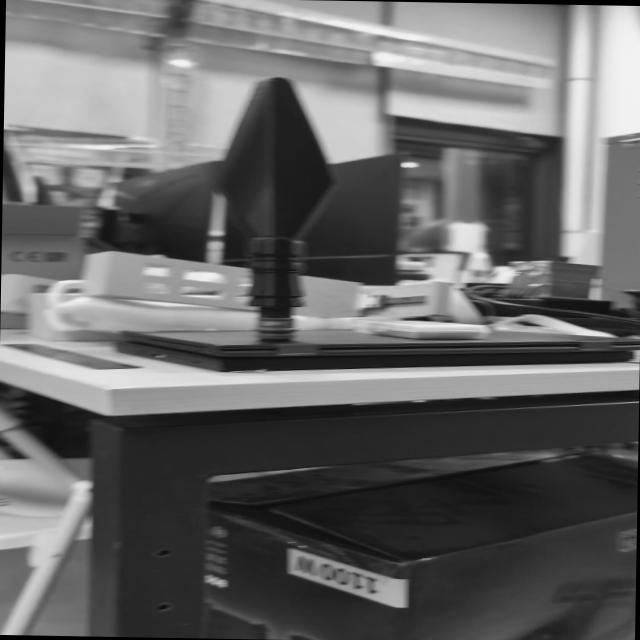base: (250, 313, 302, 348)
